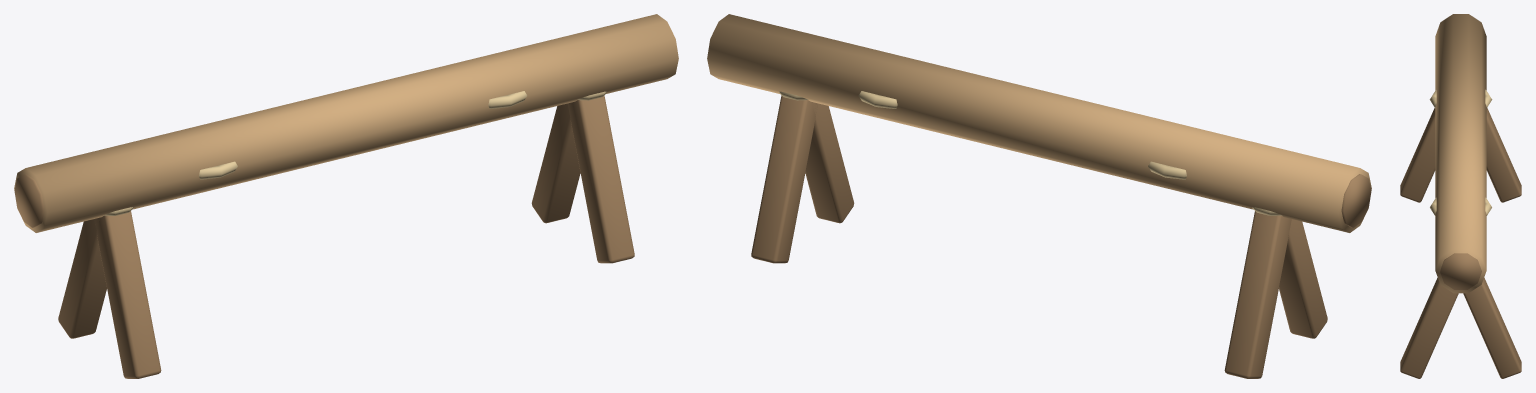
File: barreira_tronco.glb
The picture shows the model from 3 angles, left to right: view 1: azimuth 30°, elevation 25°; view 2: azimuth 150°, elevation 25°; view 3: azimuth 270°, elevation 25°; orthographic projection. The views are drawn at different scales.
Visible parts, largest first — view 1: barreira_tronco; view 2: barreira_tronco; view 3: barreira_tronco.
Part boxes in pixels (x1,y1,x2,y2): barreira_tronco: (14, 14, 678, 378); barreira_tronco: (707, 14, 1371, 378); barreira_tronco: (1400, 14, 1521, 378).
Size of the model in its own units: 2.42 by 0.7387 by 0.5239.
